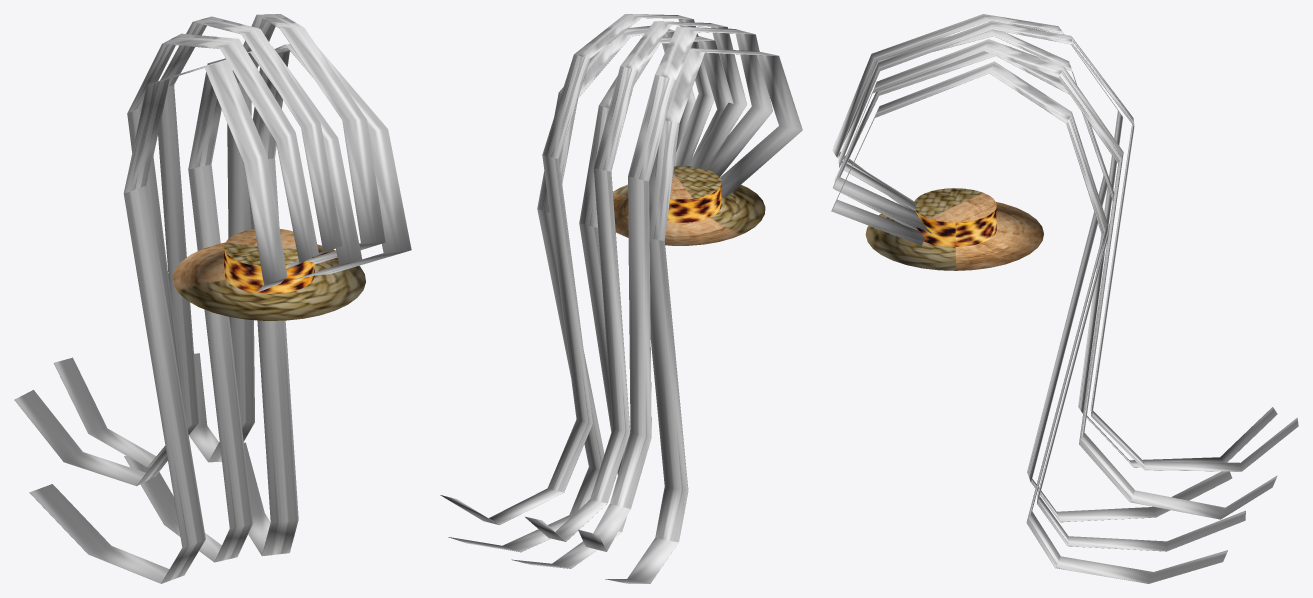
Rendered from helmet_com_2.dae.
3 renders of one model, left to right at view 1: azimuth 30°, elevation 25°; view 2: azimuth 150°, elevation 25°; view 3: azimuth 270°, elevation 25°, orthographic. The views are drawn at different scales.
Parts seen in each view (by area): view 1: helmet_com_2; view 2: helmet_com_2; view 3: helmet_com_2.
Boxes of the visible parts, x1,y1,x2,y2 form: helmet_com_2: (14, 14, 411, 583); helmet_com_2: (440, 14, 802, 583); helmet_com_2: (831, 14, 1298, 583).
Bounding box in the file's own units: 1.26 × 2.65 × 3.22.
